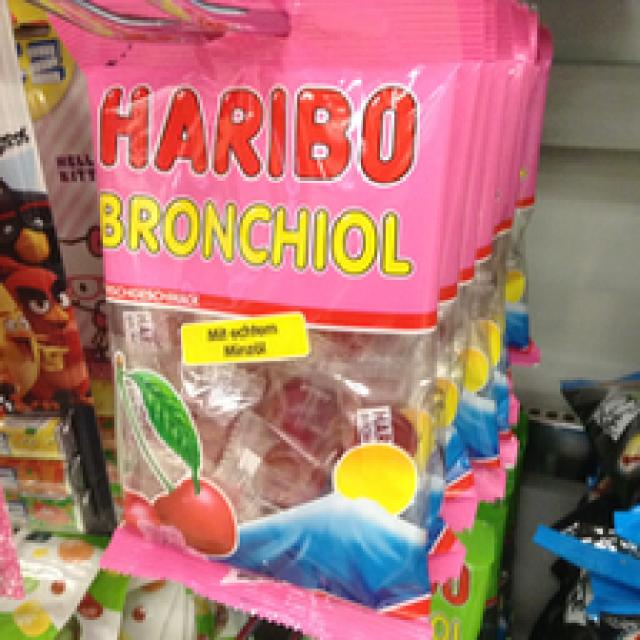groceries: (74, 9, 477, 637)
